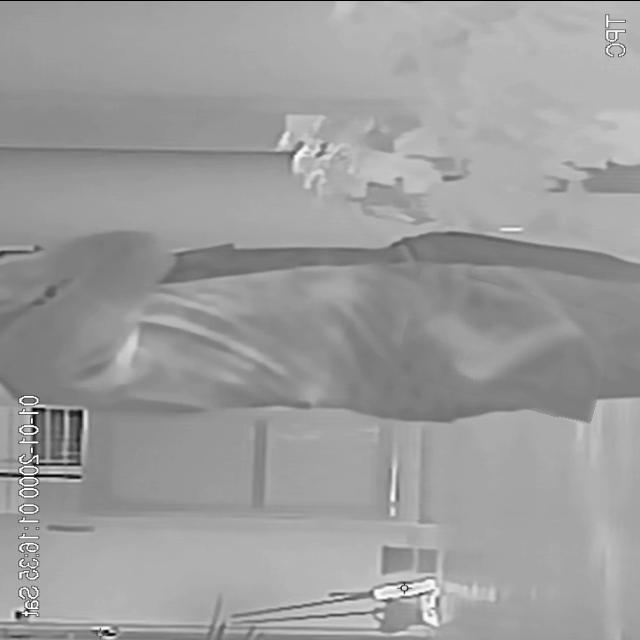Weapon: (399, 277, 614, 413)
